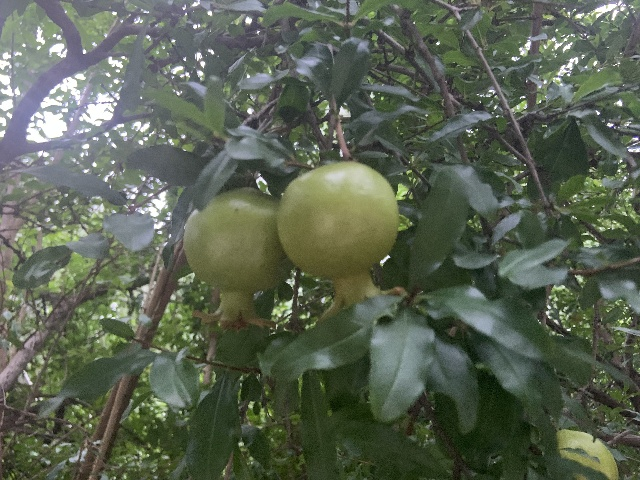mid-growth: (276, 160, 403, 322), (181, 186, 288, 331)
